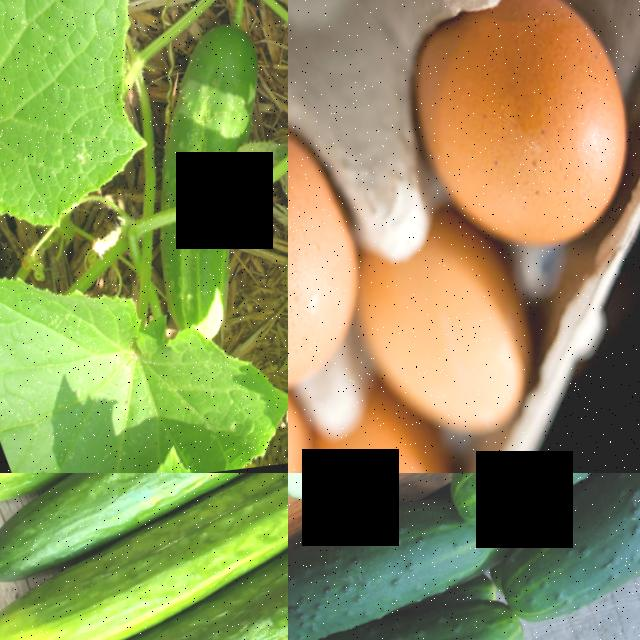cucumber: (107, 20, 288, 353), (0, 473, 288, 640), (0, 480, 288, 640), (0, 473, 288, 607), (288, 473, 500, 640), (0, 549, 288, 640), (486, 473, 640, 640), (0, 473, 288, 536), (427, 473, 633, 557), (288, 572, 537, 640)
egg_: (385, 0, 640, 302), (344, 208, 559, 473), (288, 80, 399, 432)
